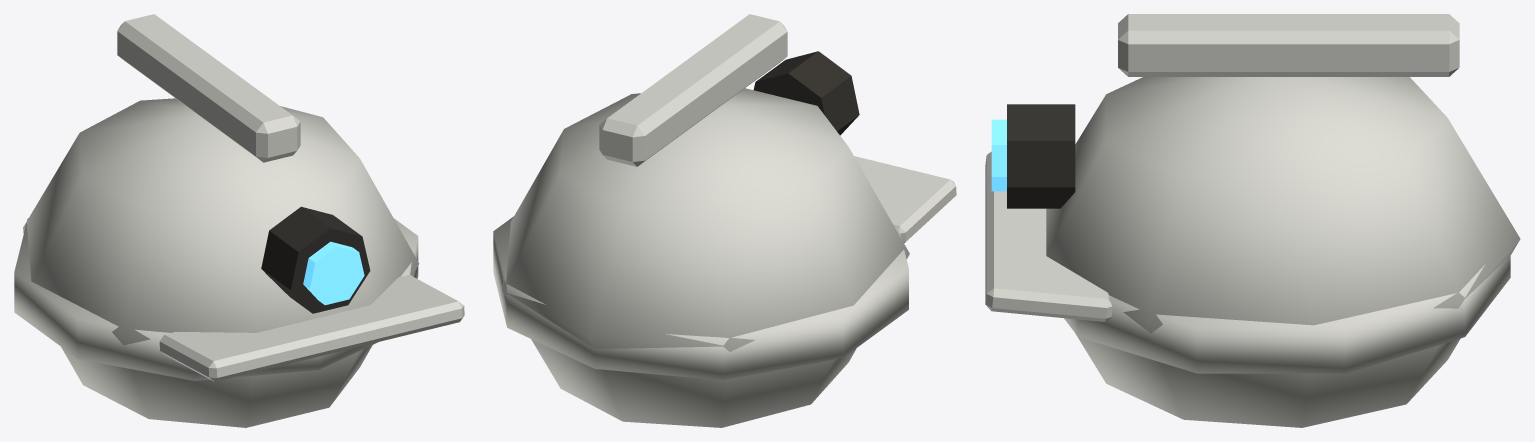
The model's file is npc_hardhat_white.glb.
3 views of the same model, side by side, from view 1: azimuth 30°, elevation 25°; view 2: azimuth 150°, elevation 25°; view 3: azimuth 270°, elevation 25° (orthographic). The views are drawn at different scales.
Parts seen in each view (by area): view 1: part.npc_hardhat_white; view 2: part.npc_hardhat_white; view 3: part.npc_hardhat_white.
Boxes of the visible parts, x1=… form: part.npc_hardhat_white: x1=14, y1=14, x2=464, y2=427; part.npc_hardhat_white: x1=493, y1=14, x2=956, y2=427; part.npc_hardhat_white: x1=985, y1=14, x2=1520, y2=427.
Size of the model in its own units: 0.2663 by 0.2507 by 0.3135.
